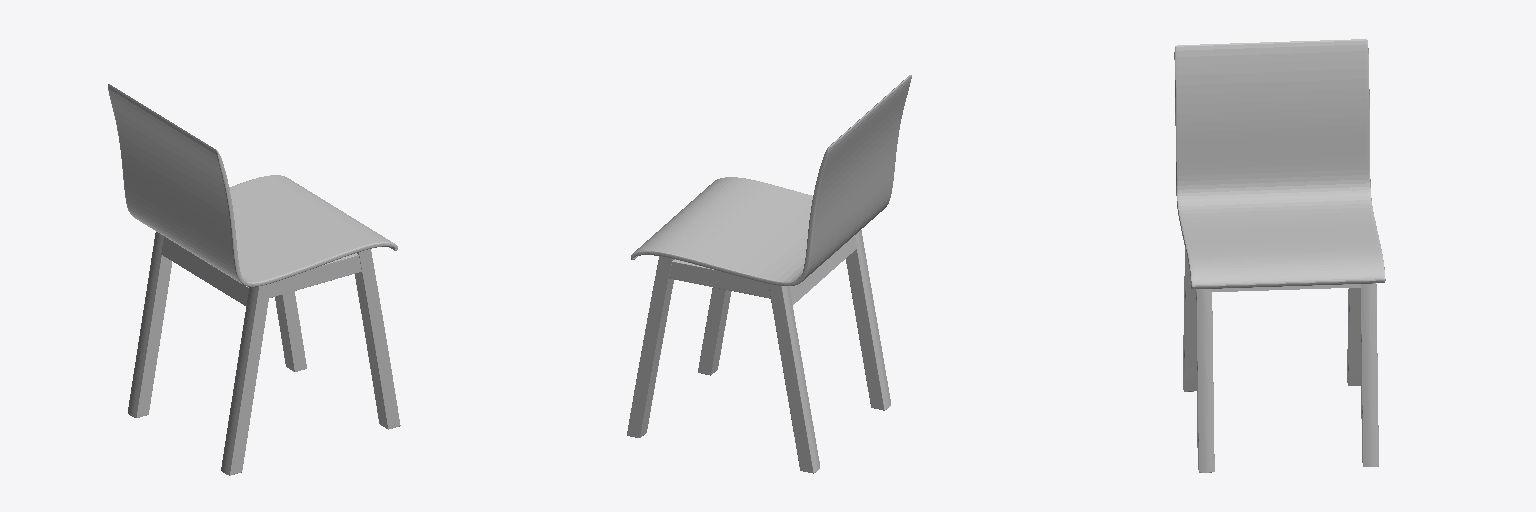
The model's file is Silla.obj.
3 renders of one model, left to right at view 1: azimuth 30°, elevation 25°; view 2: azimuth 150°, elevation 25°; view 3: azimuth 270°, elevation 25°, orthographic.
Visible parts, largest first — view 1: chair_wood.001; view 2: chair_wood.001; view 3: chair_wood.001.
Boxes of the visible parts, <box> form: chair_wood.001: <box>108,84,400,475</box>; chair_wood.001: <box>627,75,911,473</box>; chair_wood.001: <box>1174,39,1385,472</box>.
Size of the model in its own units: 2.03 by 3.08 by 1.77.